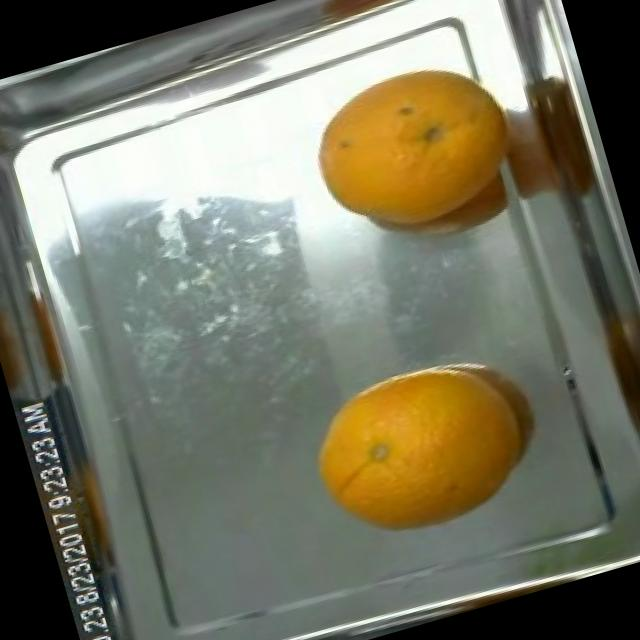Fruit: (504, 60, 606, 218)
